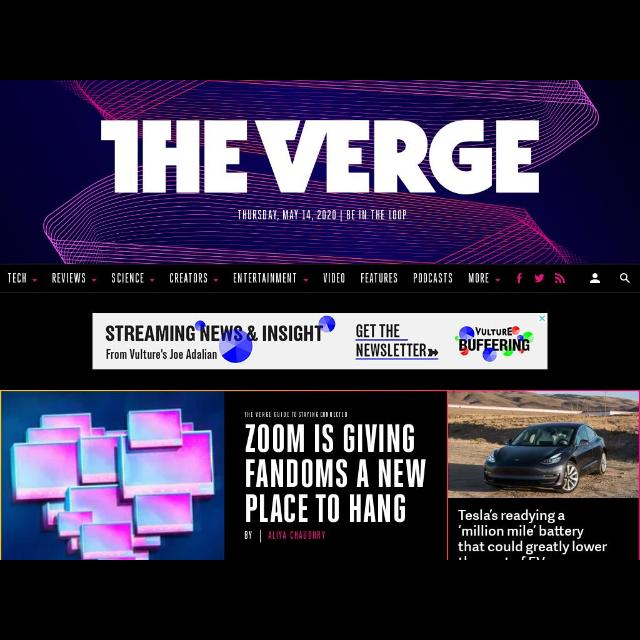icon: (553, 272, 565, 286), (619, 272, 631, 284), (588, 272, 600, 284), (532, 272, 544, 284), (516, 272, 524, 286), (495, 276, 501, 282), (150, 276, 156, 282), (90, 278, 98, 282), (304, 278, 310, 282), (213, 278, 219, 282), (33, 278, 39, 282)
iframe: (92, 312, 548, 371)
image: (1, 81, 639, 265), (0, 391, 224, 559), (448, 392, 638, 498)
link: (266, 530, 326, 540)
spinner: (228, 270, 314, 288), (165, 270, 221, 288), (105, 270, 159, 288), (46, 268, 100, 286), (461, 268, 504, 288), (4, 268, 44, 288)
text: (242, 423, 428, 523), (457, 506, 608, 558), (240, 528, 330, 544), (241, 407, 349, 419), (233, 272, 297, 284), (411, 270, 453, 286), (361, 270, 399, 286), (169, 272, 209, 286), (50, 272, 86, 284), (110, 271, 144, 283), (466, 270, 489, 286), (322, 271, 346, 283), (7, 270, 27, 284)
toolbar: (1, 266, 639, 292)
